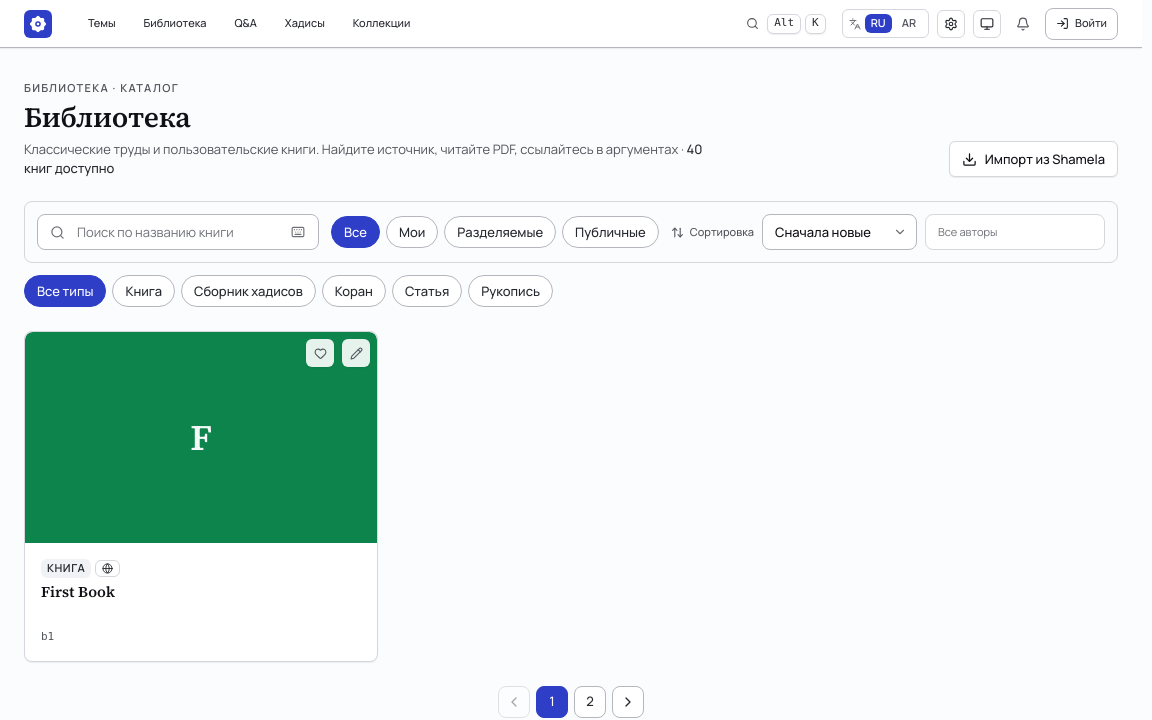
Test: BookListPage / Library overview › пагинация: «следующая» грузит вторую страницу и ЗАМЕНЯЕТ список
Check: the heading "First Book" is shown, box top-left (41, 581), bottom-right (115, 602)
Click the button named "Следующая страница".
click(628, 702)  # box top-left (612, 686), bottom-right (644, 718)
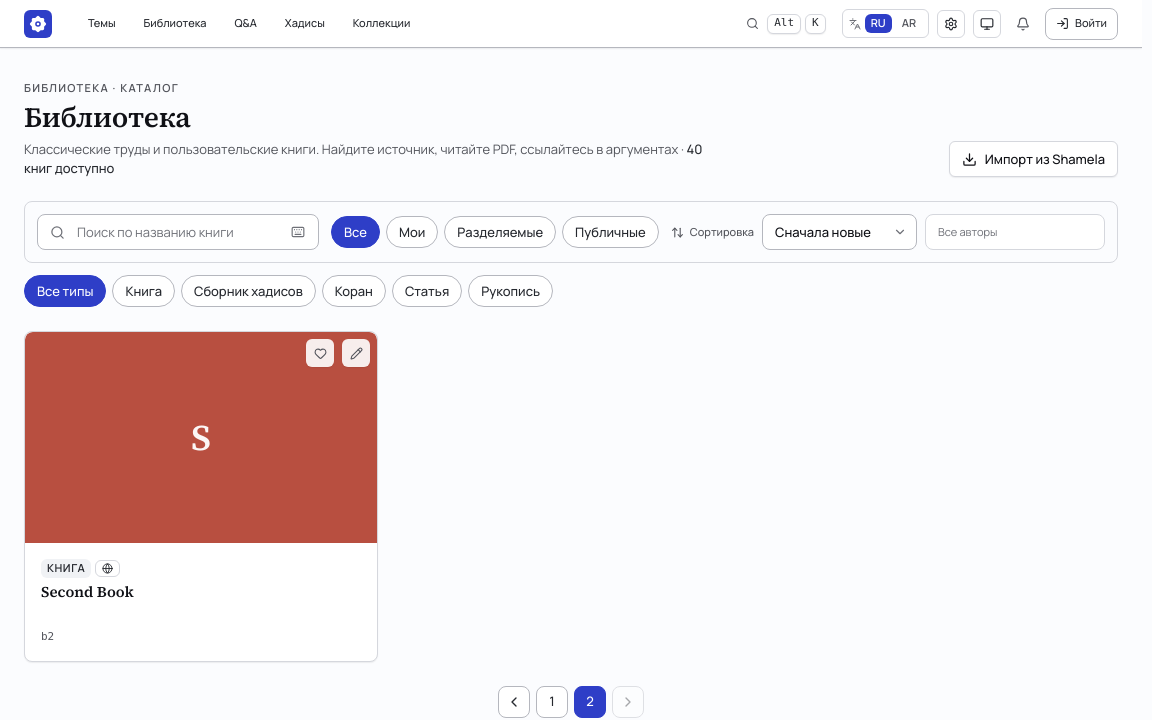
Check: the heading "Second Book" is shown, box top-left (41, 581), bottom-right (134, 602)
Check: the link "First Book" is gone
